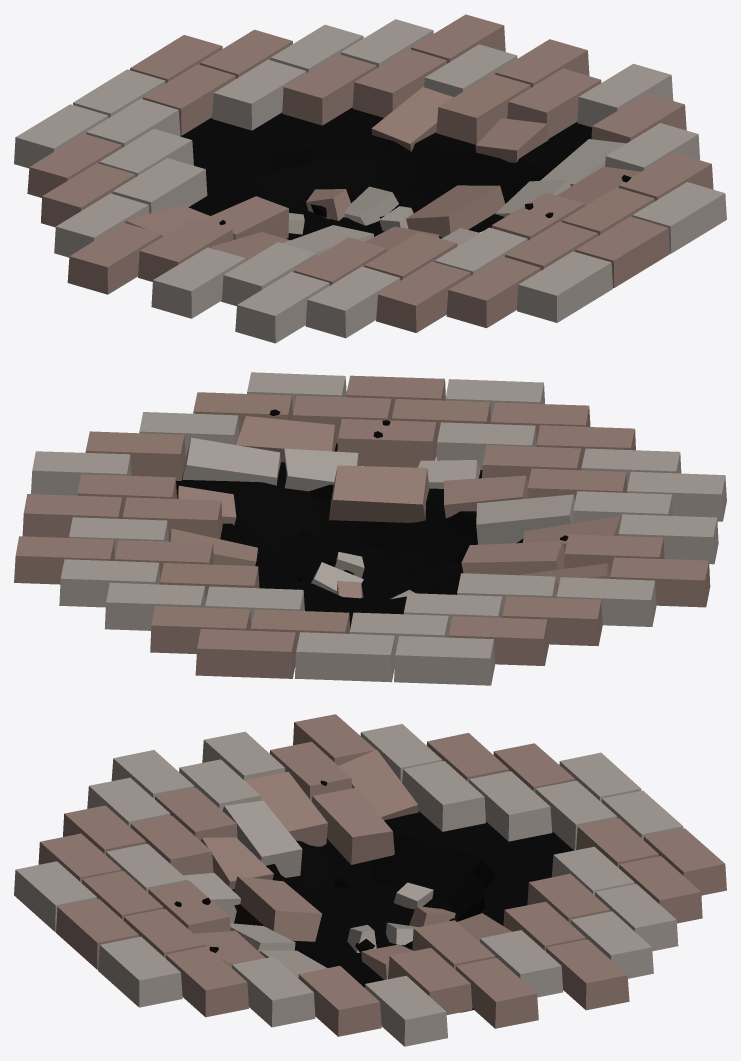
The model's file is Bache.fbx.
The picture shows the model from 3 angles, top to bottom: view 1: azimuth 30°, elevation 25°; view 2: azimuth 150°, elevation 25°; view 3: azimuth 270°, elevation 25°; orthographic projection.
Visible parts, largest first — view 1: Bache_1, Bache_1.001; view 2: Bache_1, Bache_1.001; view 3: Bache_1, Bache_1.001.
Boxes of the visible parts, x1,y1,x2,y2 form: Bache_1: (14, 14, 726, 343); Bache_1.001: (286, 192, 481, 240); Bache_1: (14, 372, 726, 685); Bache_1.001: (277, 534, 463, 599); Bache_1: (14, 714, 726, 1046); Bache_1.001: (302, 880, 453, 965).
Size of the model in its own units: 151 by 18.76 by 148.
